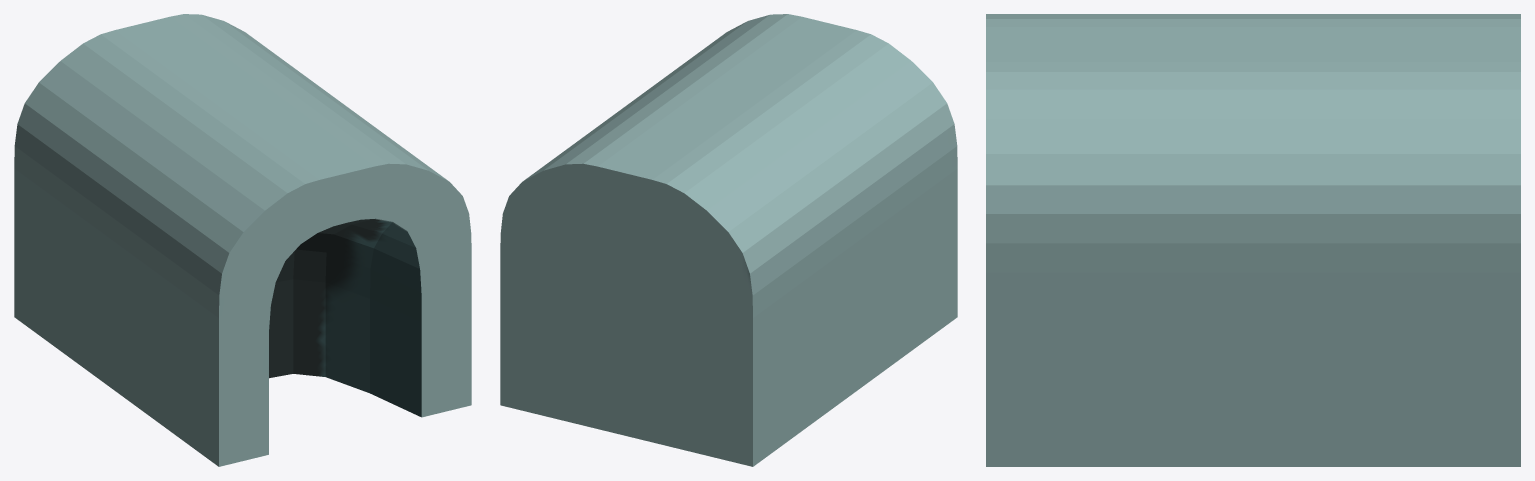
The model's file is tunnel.glb.
3 renders of one model, left to right at view 1: azimuth 30°, elevation 25°; view 2: azimuth 150°, elevation 25°; view 3: azimuth 270°, elevation 25°, orthographic. The views are drawn at different scales.
Visible parts, largest first — view 1: Cube; view 2: Cube; view 3: Cube.
Part boxes in pixels (<box>): Cube: <box>14,14,471,466</box>; Cube: <box>500,14,957,466</box>; Cube: <box>986,14,1520,466</box>.
Size of the model in its own units: 2.31 by 2.29 by 3.24.
1 material, 1 textured.
